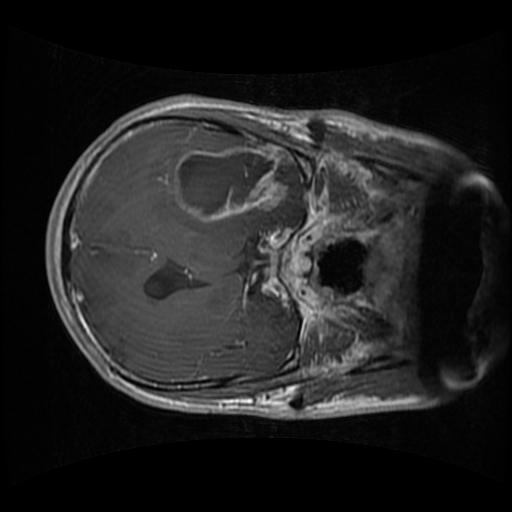glioma: (170, 143, 303, 224)
